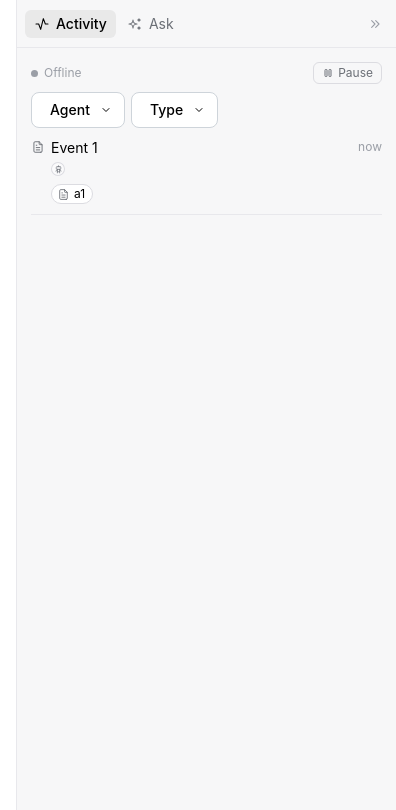
Test case: activity feed backfill, reconnect and pause › pause buffers live events until resumed
This screenshot has width=396, height=810.
Check: the text "Event 1" is shown, box [51,139,98,156]
Click the button "Pause".
click(348, 73)  # box [313,62,382,84]
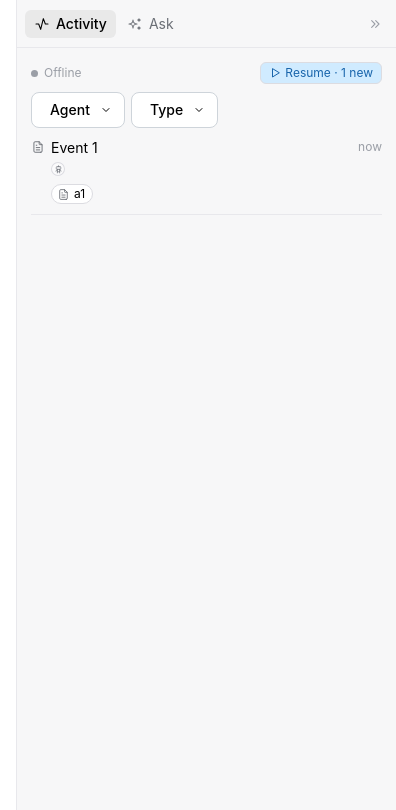
Check: the text "Event 2" is not shown
Click the button "Resume · 1 new".
click(321, 73)  # box [260,62,382,84]
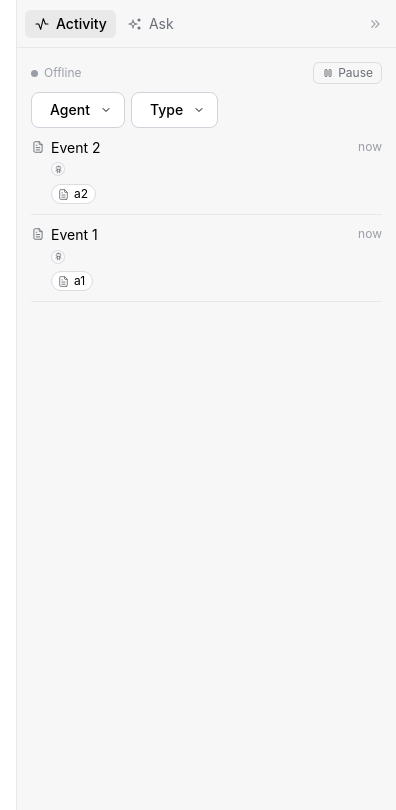
Check: the text "Event 2" is shown, box [51,139,100,156]
